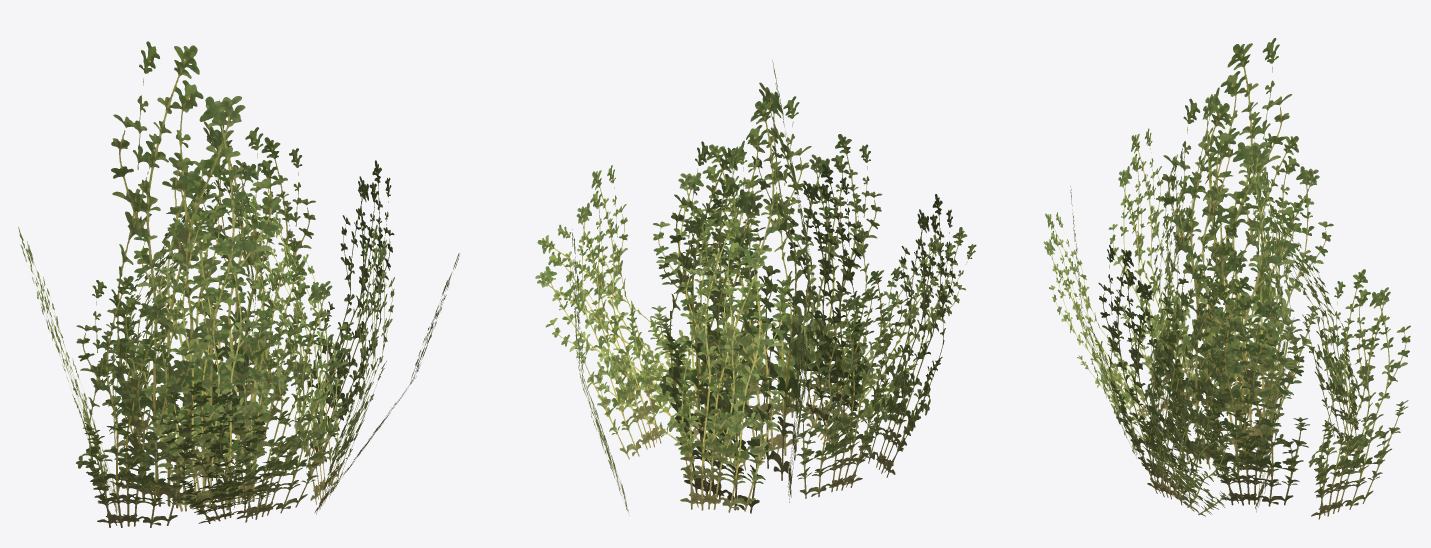
Rendered from thyme.glb.
The picture shows the model from 3 angles, left to right: view 1: azimuth 30°, elevation 25°; view 2: azimuth 150°, elevation 25°; view 3: azimuth 270°, elevation 25°; orthographic projection. The views are drawn at different scales.
Visible parts, largest first — view 1: Thyme; view 2: Thyme; view 3: Thyme.
Part boxes in pixels (box(x1,y1,x2,y2)): Thyme: box(18, 41, 459, 527); Thyme: box(535, 59, 976, 515); Thyme: box(1043, 38, 1410, 519).
Size of the model in its own units: 0.3143 by 0.3326 by 0.2627.
Materials: 1 (1 with a texture image).
